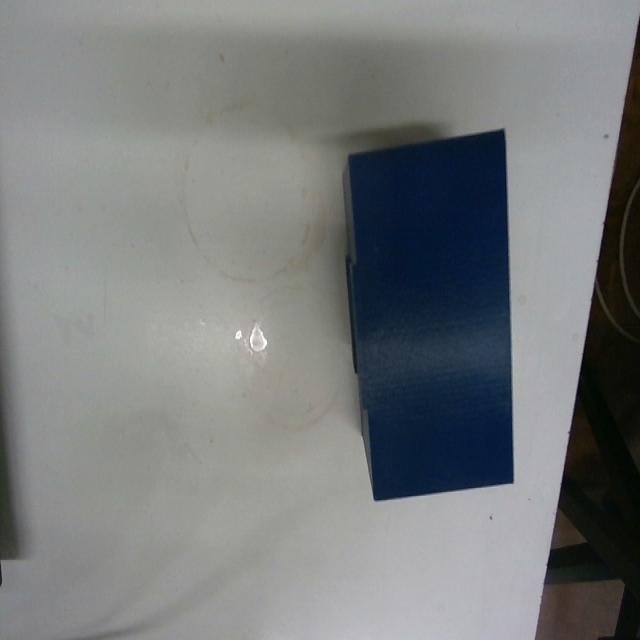Blue Cuboid: (339, 124, 516, 503)
